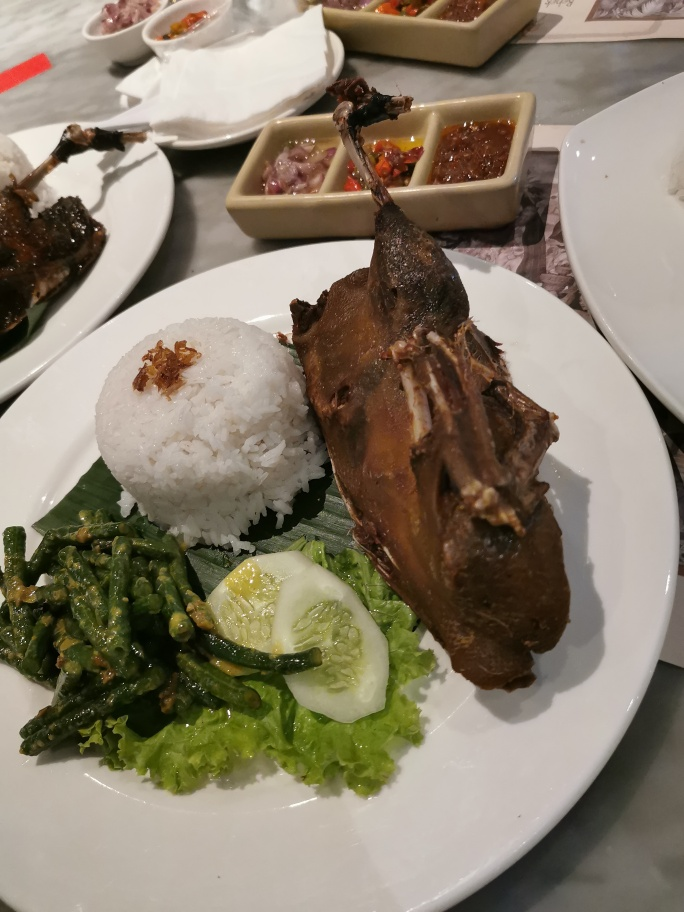bebek goreng: (286, 78, 583, 709)
nasi putih: (88, 307, 327, 543)
